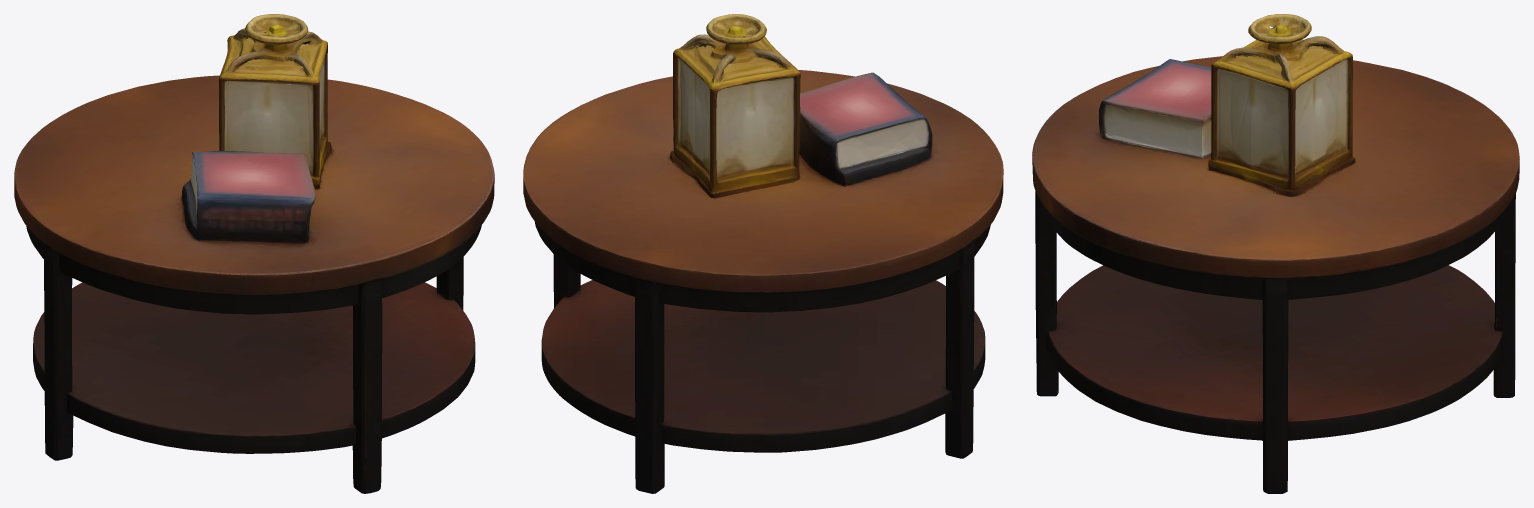
Rendered from table_side_round_wood.glb.
3 views of the same model, side by side, from view 1: azimuth 30°, elevation 25°; view 2: azimuth 150°, elevation 25°; view 3: azimuth 270°, elevation 25° (orthographic).
Parts seen in each view (by area): view 1: geometry_0; view 2: geometry_0; view 3: geometry_0.
Part boxes in pixels (x1,y1,x2,y2): geometry_0: [14, 14, 494, 493]; geometry_0: [523, 14, 1003, 493]; geometry_0: [1032, 14, 1519, 493].
Size of the model in its own units: 0.9984 by 0.8564 by 0.9954.
1 material, 1 textured.
